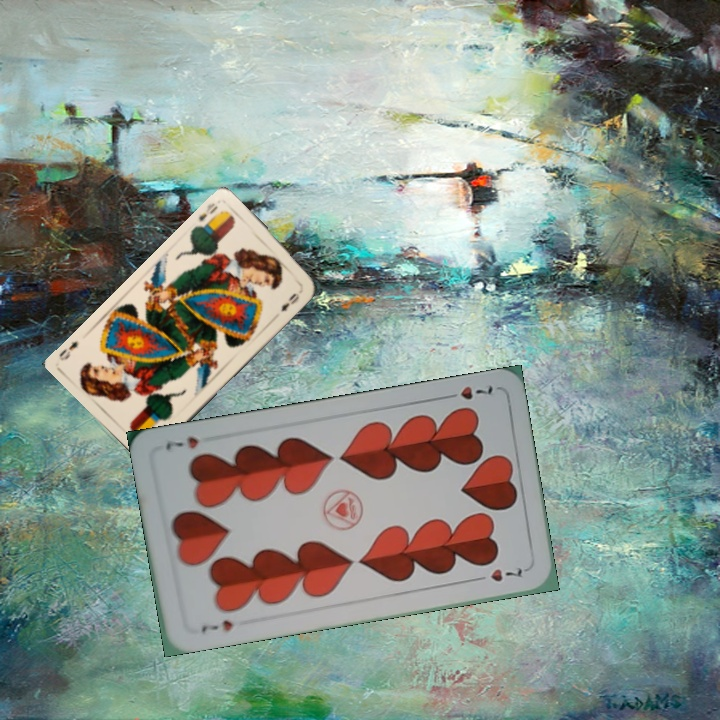EO: (195, 198, 220, 224)
H7: (440, 382, 496, 402), (197, 616, 235, 635)
